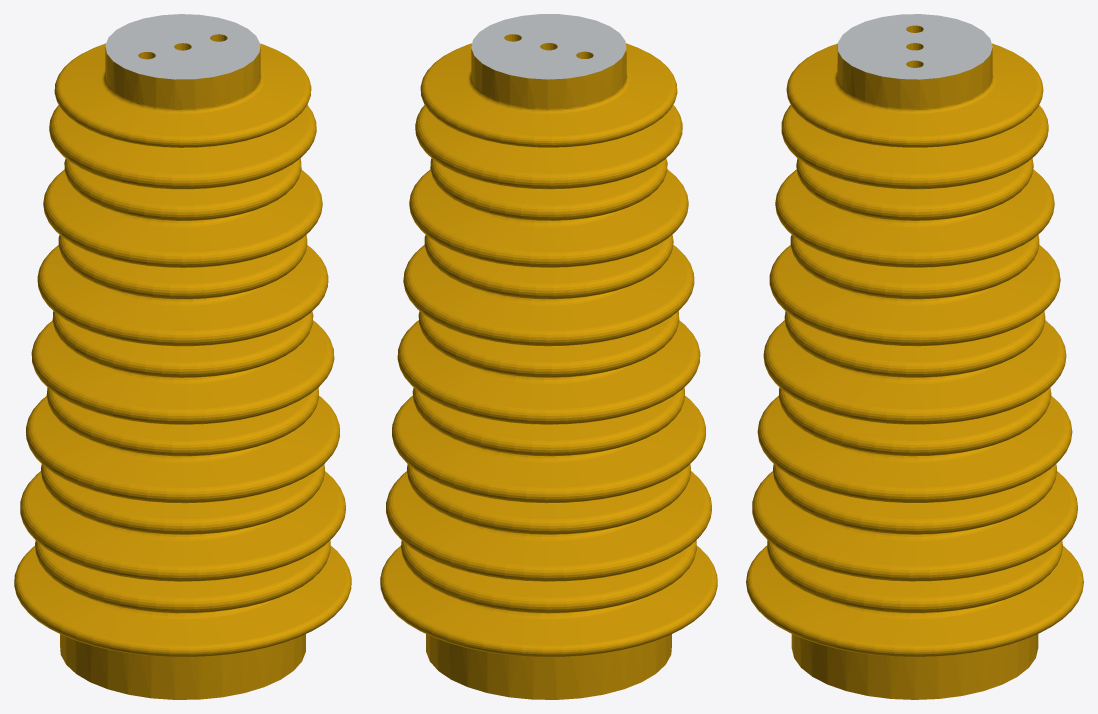
3 views of the same model, side by side, from view 1: azimuth 30°, elevation 25°; view 2: azimuth 150°, elevation 25°; view 3: azimuth 270°, elevation 25° (orthographic).
Parts seen in each view (by area): view 1: 888; view 2: 888; view 3: 888.
Part boxes in pixels (x1,y1,x2,y2): 888: [14, 14, 351, 699]; 888: [380, 14, 717, 699]; 888: [746, 14, 1083, 699].
Bounding box in the file's own units: 163 × 320 × 163.
